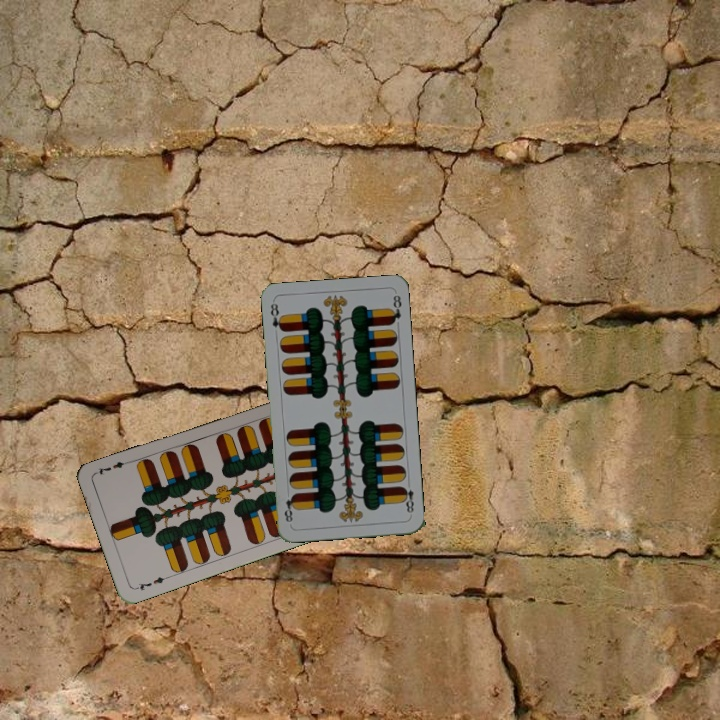E7: (131, 573, 171, 593)
E8: (398, 477, 417, 515), (267, 298, 286, 334)
